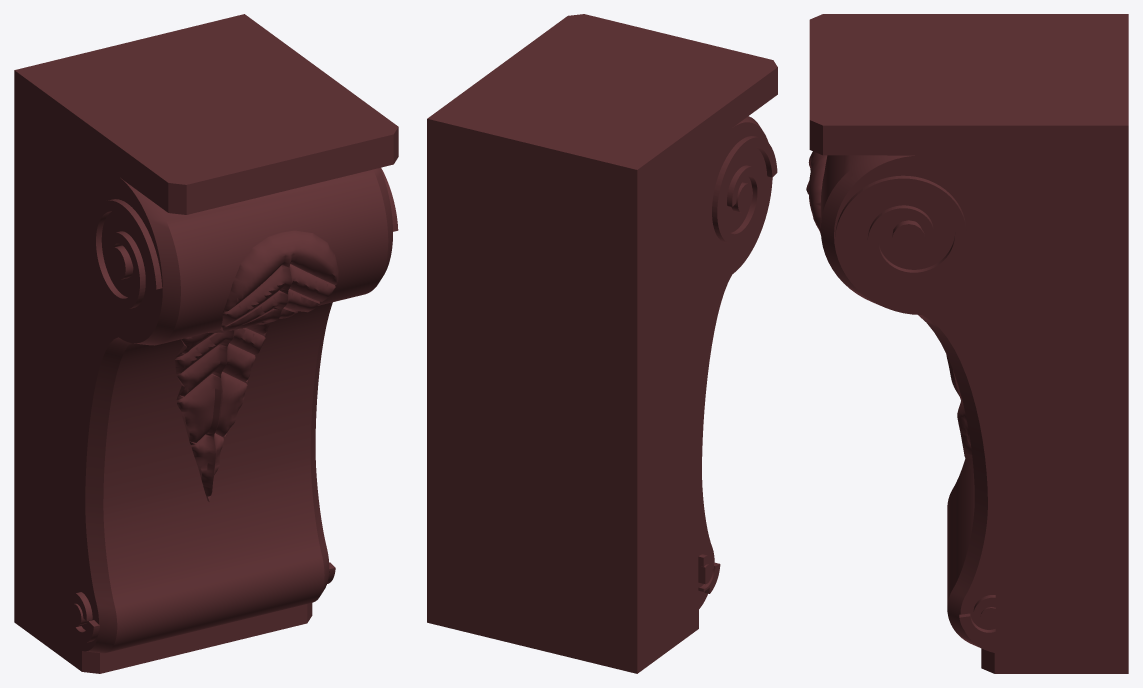
The model's file is console.glb.
The picture shows the model from 3 angles, left to right: view 1: azimuth 30°, elevation 25°; view 2: azimuth 150°, elevation 25°; view 3: azimuth 270°, elevation 25°; orthographic projection. The views are drawn at different scales.
Parts seen in each view (by area): view 1: con_body, con_leaf, con_fillet_u0_l, con_boss_u_l; view 2: con_body, con_fillet_u0_l; view 3: con_body, con_fillet_u0_r, con_leaf, con_boss_u_r.
Boxes of the visible parts, x1,y1,x2,y2 form: con_body: (14, 14, 398, 673); con_leaf: (175, 230, 338, 501); con_fillet_u0_l: (90, 199, 162, 309); con_boss_u_l: (109, 245, 133, 279); con_body: (427, 14, 777, 673); con_fillet_u0_l: (712, 136, 777, 243); con_body: (809, 14, 1128, 673); con_fillet_u0_r: (835, 175, 966, 282); con_leaf: (806, 151, 973, 468); con_boss_u_r: (892, 220, 925, 253).
Size of the model in its own units: 0.256 by 0.55 by 0.2933.
